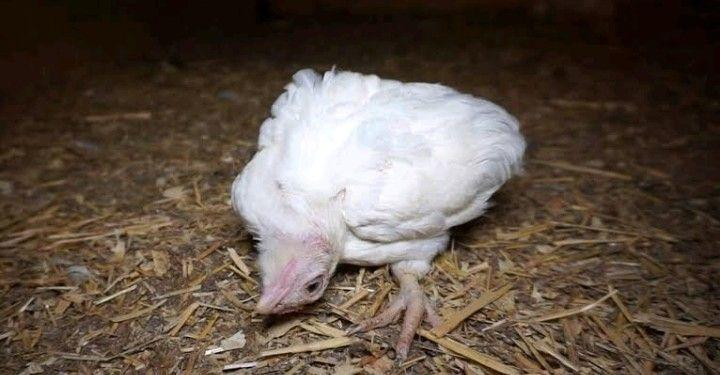AbNormal: (227, 64, 526, 345)
